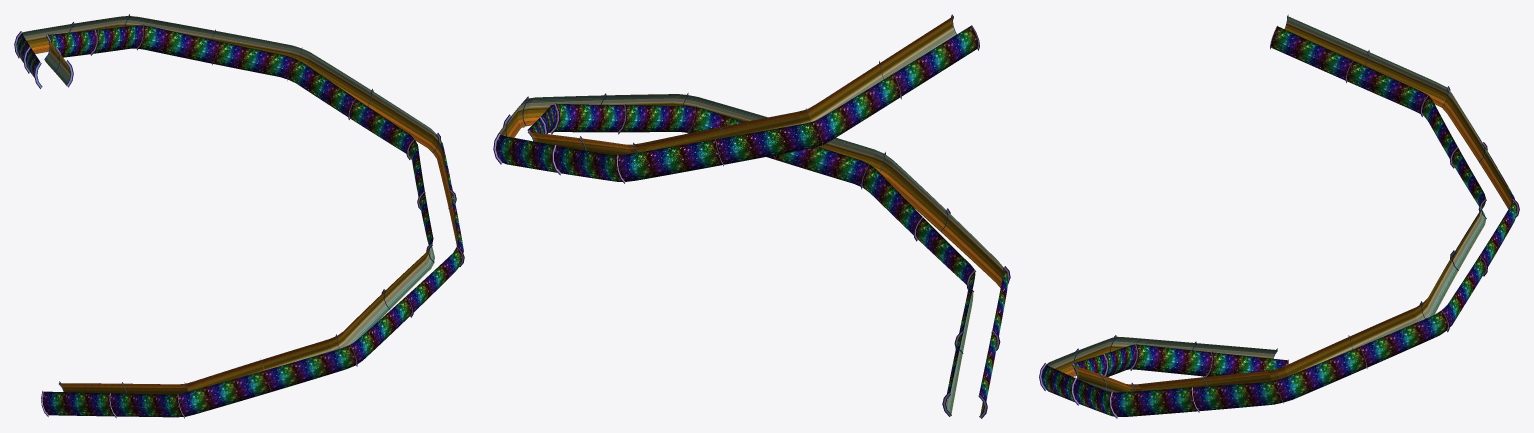
Rendered from FooGuardLongA.fbx.
3 views of the same model, side by side, from view 1: azimuth 30°, elevation 25°; view 2: azimuth 150°, elevation 25°; view 3: azimuth 270°, elevation 25° (orthographic). The views are drawn at different scales.
Parts seen in each view (by area): view 1: FooGuardLongA; view 2: FooGuardLongA; view 3: FooGuardLongA.
Boxes of the visible parts, left/top/right/bottom form: FooGuardLongA: left=14, top=14, right=464, bottom=418; FooGuardLongA: left=493, top=14, right=1010, bottom=418; FooGuardLongA: left=1039, top=14, right=1519, bottom=418.
Size of the model in its own units: 3619015 by 2995846 by 3619634.
